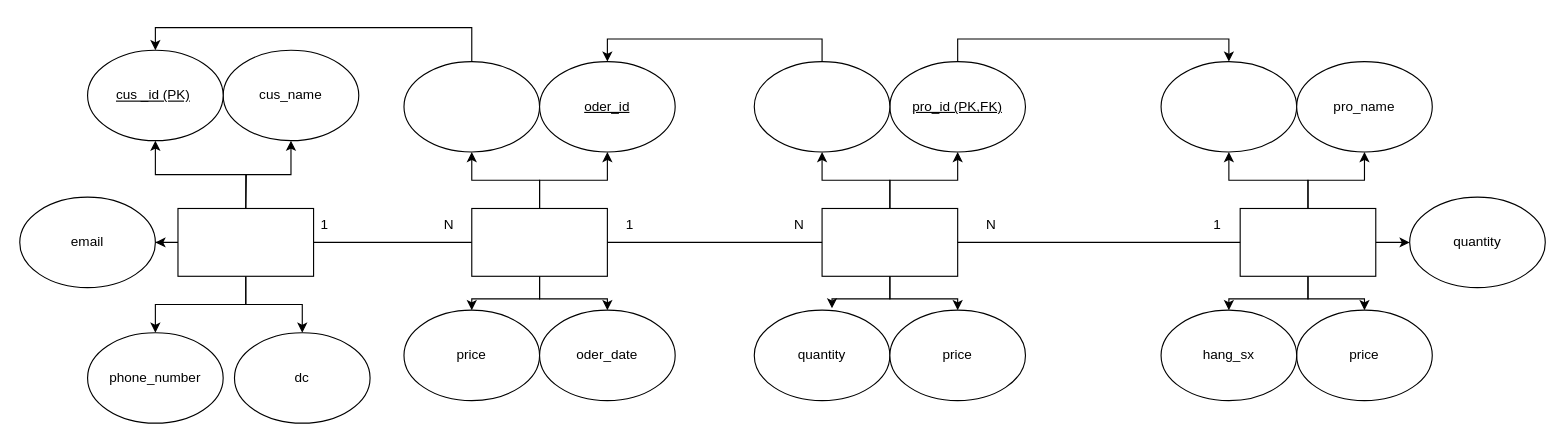
This 1565x443 diagram has some shape labels left out. The shapes that lost their labels are listed below. From the top down, each one's centre as x and y in pixels, then its label:
At (471,106): "cus_id (FK)".
At (821,106): "oder_id (PK,FK)".
At (1228,106): "pro_id (PK)".
At (245,241): "customer".
At (539,241): "oder".
At (889,241): "oder_detail".
At (1307,241): "product".
